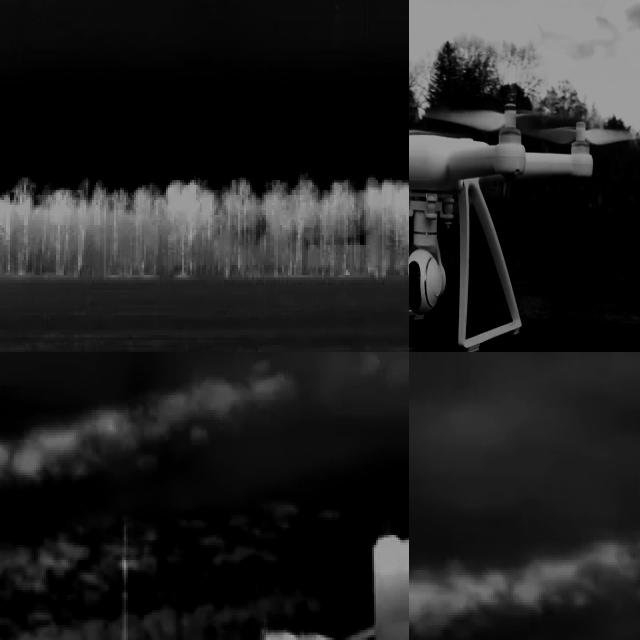drone: (409, 101, 585, 352)
